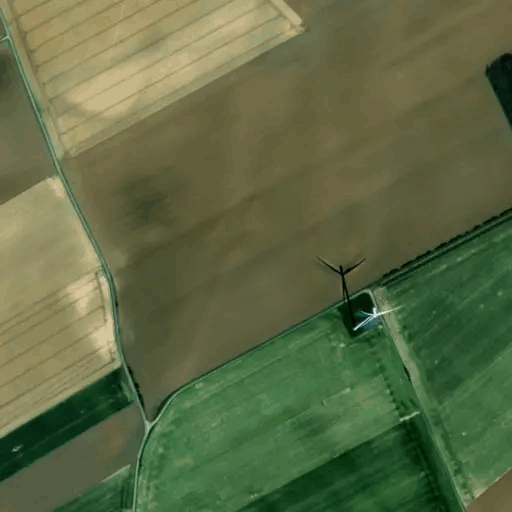wt: (313, 247, 402, 343)
